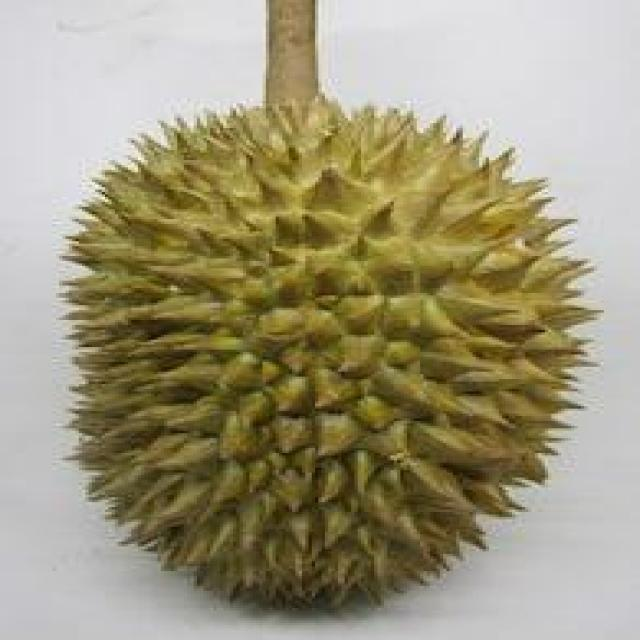immature: (57, 88, 607, 617)
